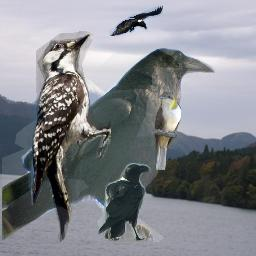Crow: (2, 46, 216, 242), (97, 163, 151, 241), (109, 5, 163, 36)
Cuckoo: (153, 92, 181, 170)
Woodpecker: (25, 29, 111, 245)
